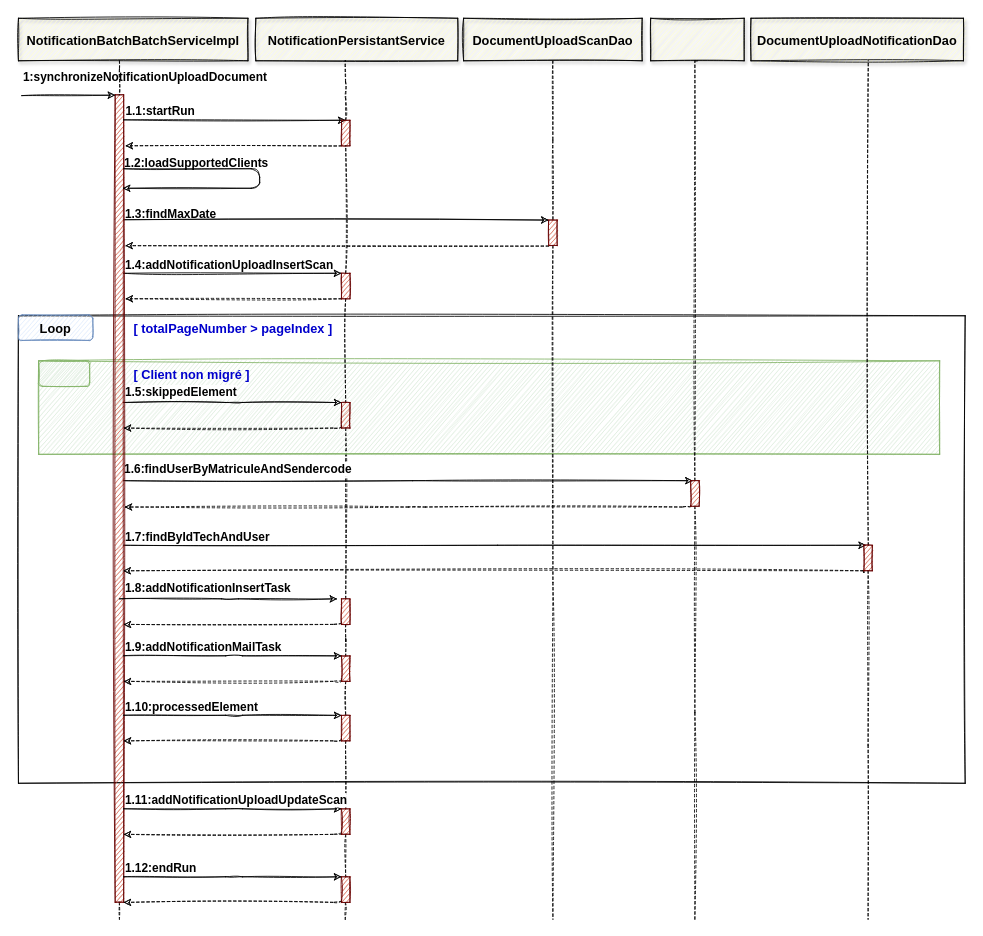
This 983x936 diagram has some shape labels left out. The centre of each missing label's shape, as x and y in pixels:
"Alt" goes at (64,373).
"UserSrhDao" goes at (697,40).
